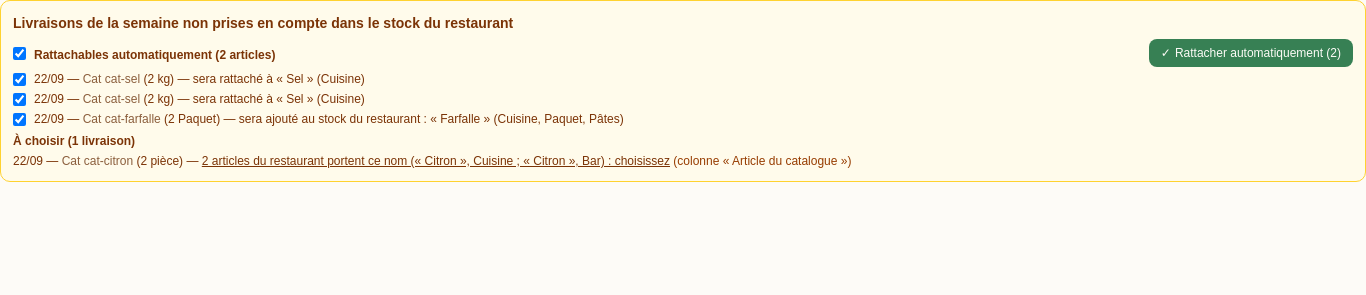
Test: bandeau — rattachement automatique › actions groupées : tout est coché par défaut, une case décochée n'est pas envoyée
Click the checkbox named "Rattacher automatiquement Cat cat-farfalle": (20, 120) [13,113,26,126]
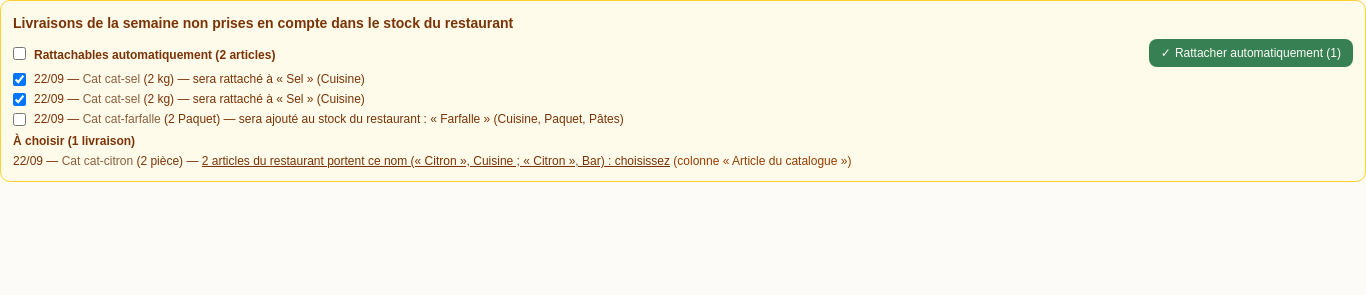
Result: the button "✓ Rattacher automatiquement (1)" is shown
Click the button "✓ Rattacher automatiquement (1)": (1251, 53) [1149,39,1353,67]
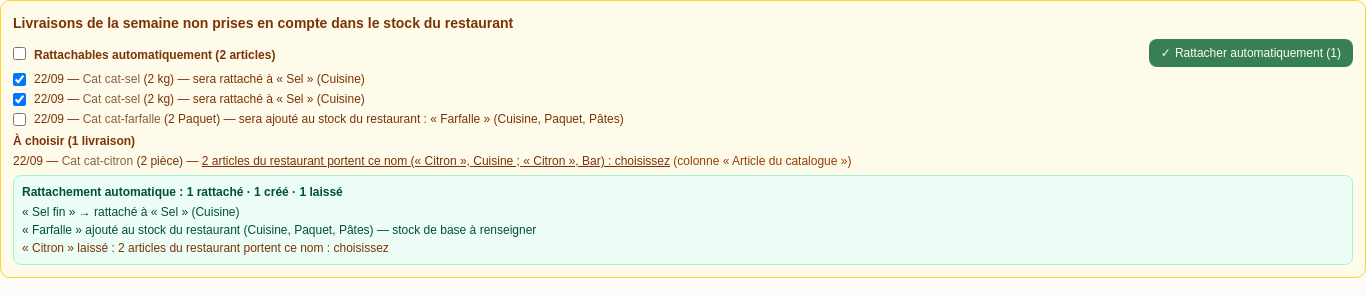
Click the checkbox named "Tout sélectionner": (20, 53) [13,46,26,60]
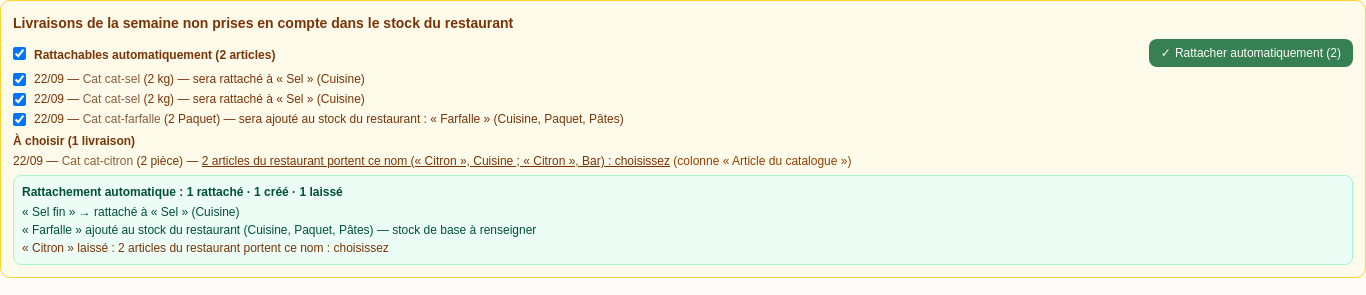
Result: the button "✓ Rattacher automatiquement (2)" is shown at [1149,39,1353,67]
Click the checkbox named "Tout sélectionner": (20, 53) [13,46,26,60]
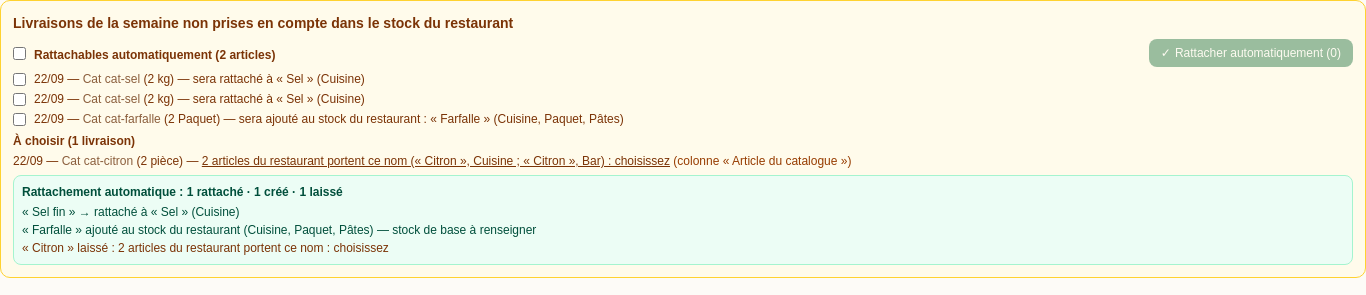
Result: the button "✓ Rattacher automatiquement (0)" is disabled at [1149,39,1353,67]
